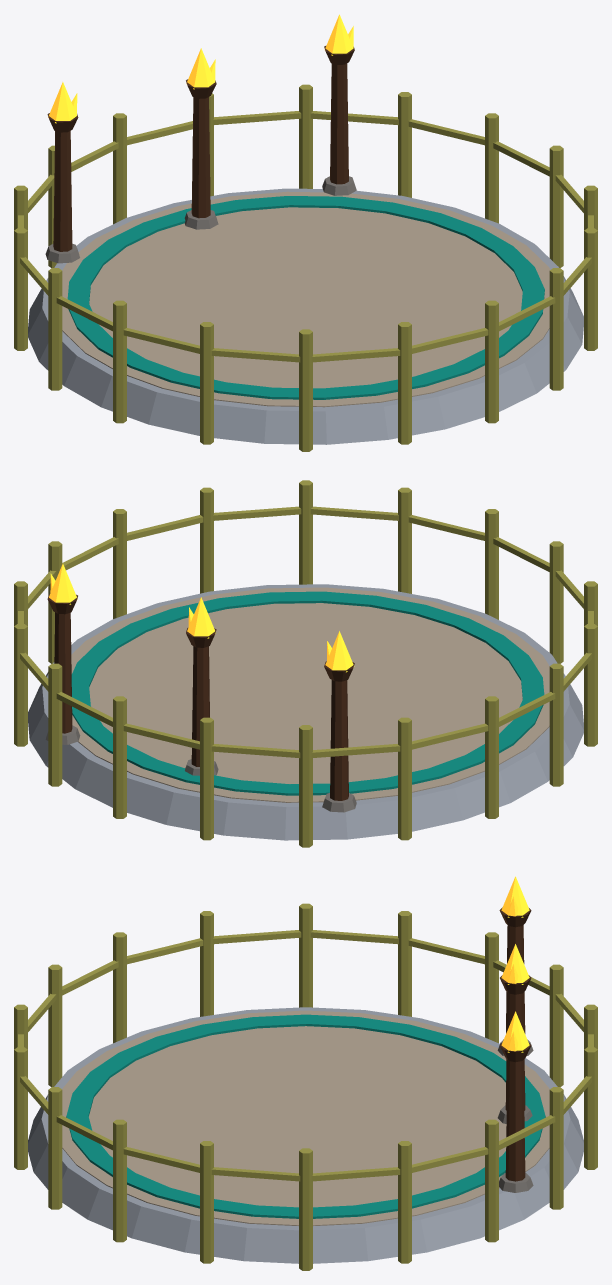
File: panggung_uji_v001.glb
3 views of the same model, one above another, from view 1: azimuth 30°, elevation 25°; view 2: azimuth 150°, elevation 25°; view 3: azimuth 270°, elevation 25° (orthographic).
Visible parts, largest first — view 1: Arena_Uji, Pagar_Uji, Cincin_Aksen, Api_2_Nyala, Api_3_Nyala, Api_1_Nyala; view 2: Arena_Uji, Pagar_Uji, Cincin_Aksen, Api_2_Nyala, Api_3_Nyala, Api_1_Nyala; view 3: Arena_Uji, Pagar_Uji, Cincin_Aksen, Api_1_Nyala, Api_3_Nyala, Api_2_Nyala.
Part boxes in pixels (x1=…): Arena_Uji: x1=28, y1=46, x2=583, y2=444; Pagar_Uji: x1=14, y1=84, x2=597, y2=451; Cincin_Aksen: x1=67, y1=196, x2=544, y2=399; Api_2_Nyala: x1=186, y1=48, x2=215, y2=89; Api_3_Nyala: x1=324, y1=14, x2=353, y2=55; Api_1_Nyala: x1=48, y1=82, x2=77, y2=123; Arena_Uji: x1=28, y1=584, x2=583, y2=840; Pagar_Uji: x1=14, y1=480, x2=597, y2=847; Cincin_Aksen: x1=71, y1=591, x2=544, y2=795; Api_2_Nyala: x1=187, y1=597, x2=215, y2=638; Api_3_Nyala: x1=49, y1=563, x2=77, y2=604; Api_1_Nyala: x1=325, y1=631, x2=354, y2=672; Arena_Uji: x1=28, y1=907, x2=583, y2=1263; Pagar_Uji: x1=14, y1=903, x2=597, y2=1270; Cincin_Aksen: x1=66, y1=1014, x2=545, y2=1218; Api_1_Nyala: x1=501, y1=876, x2=529, y2=917; Api_3_Nyala: x1=501, y1=1011, x2=529, y2=1052; Api_2_Nyala: x1=501, y1=944, x2=529, y2=984.
Size of the model in its own units: 5.92 by 2.24 by 5.85.
